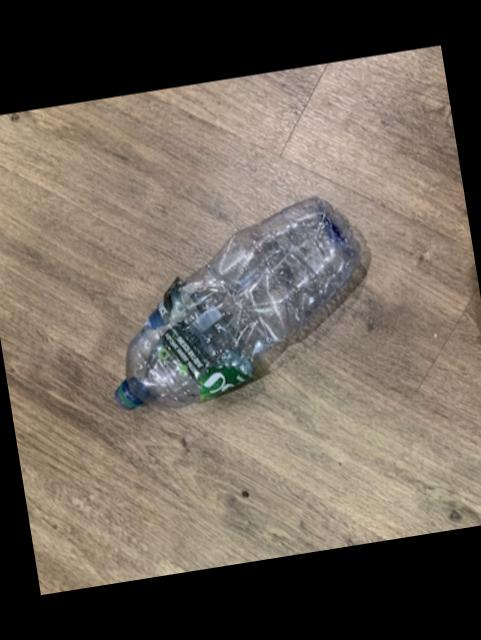plastic: (113, 196, 356, 408)
